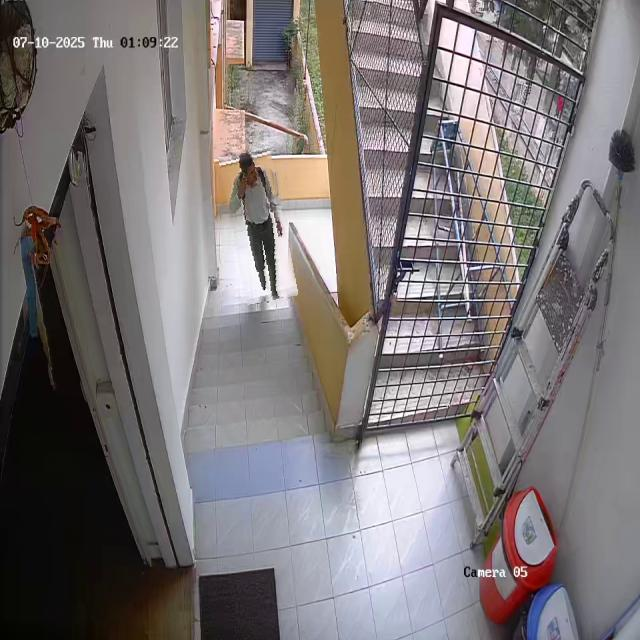person: (225, 150, 292, 303)
